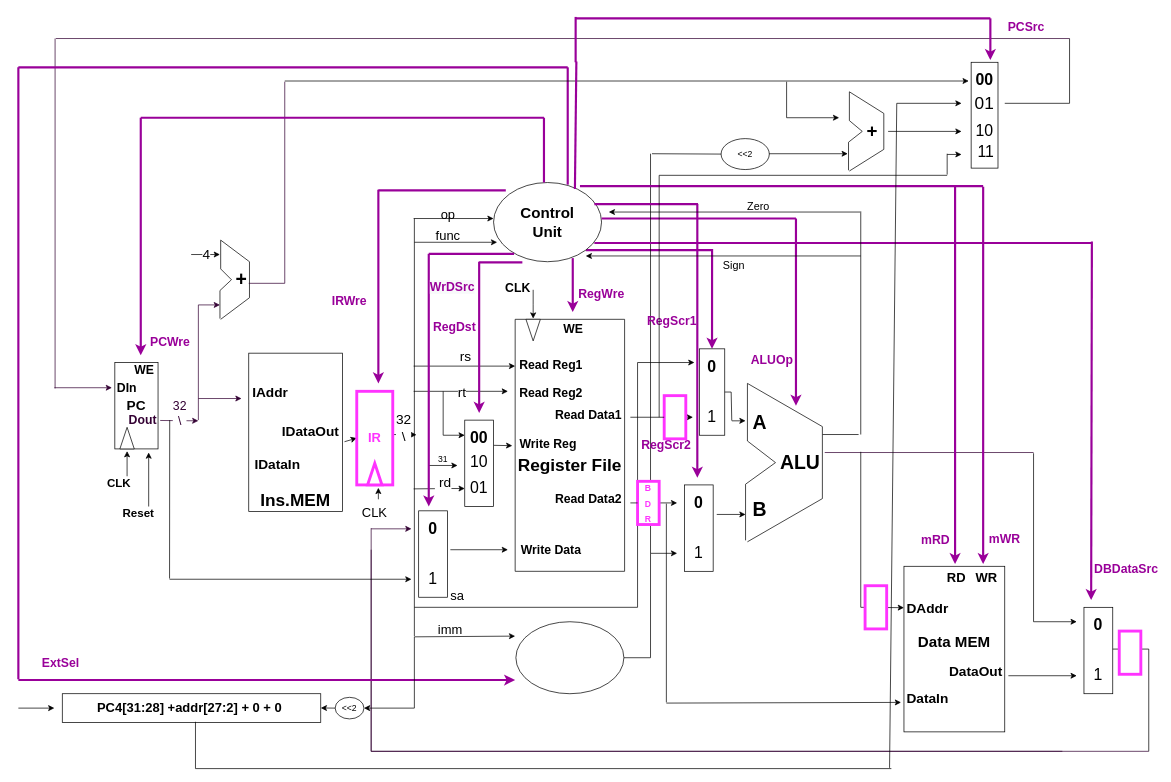
This 1171x782 diagram has some shape labels left out. The shapes that lost their labels are listed below. From the top down, each one's box as (x1, y1, x2, y2) in pixels, then its label:
(662, 394, 687, 440): A D R
(863, 584, 888, 630): ALU D R
(515, 621, 624, 694): Sign/Zero extend
(1117, 629, 1142, 675): DM D R
